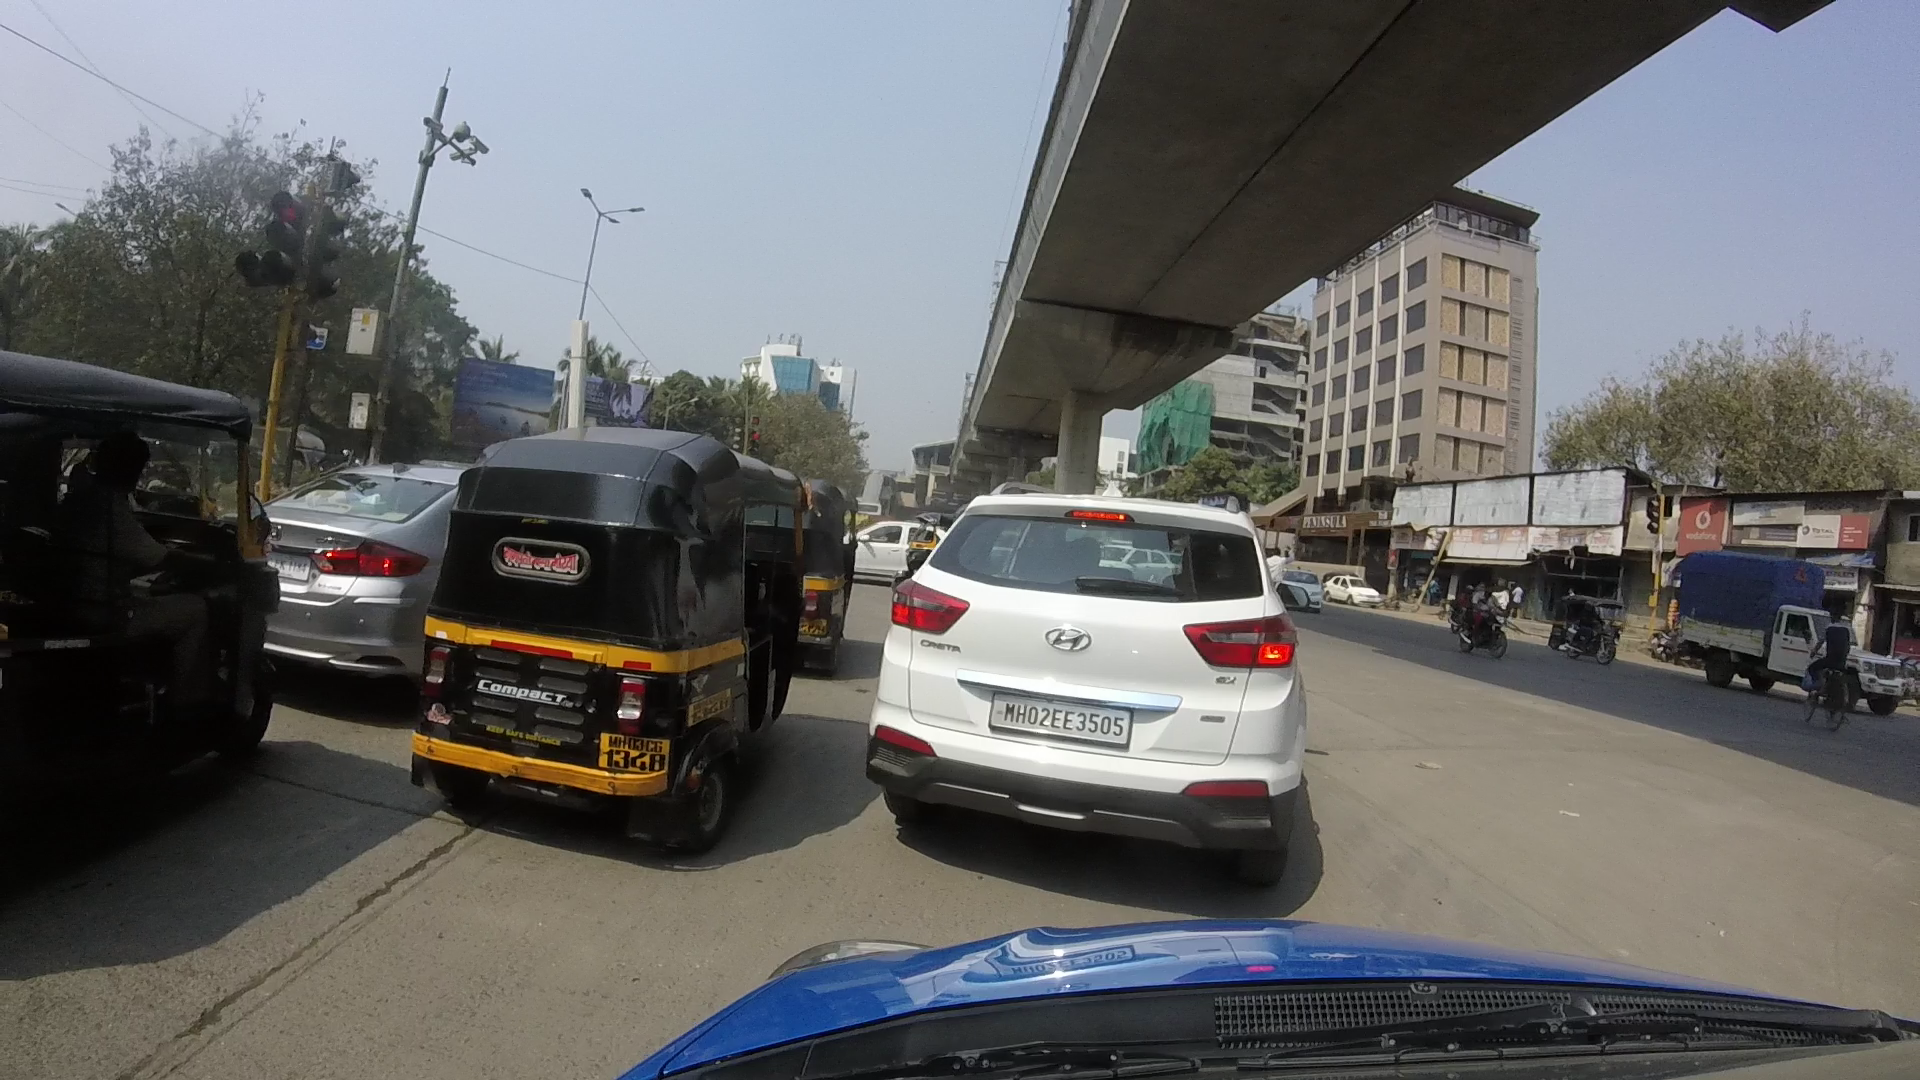bike/scooter: (1447, 589, 1523, 663)
car: (872, 475, 1315, 847), (247, 411, 491, 687), (837, 498, 944, 578), (1273, 553, 1331, 611), (1327, 562, 1378, 617)
rickshaw: (406, 434, 808, 829), (1, 342, 281, 873), (800, 465, 874, 684), (902, 498, 948, 574)
truck: (1673, 555, 1898, 694)
